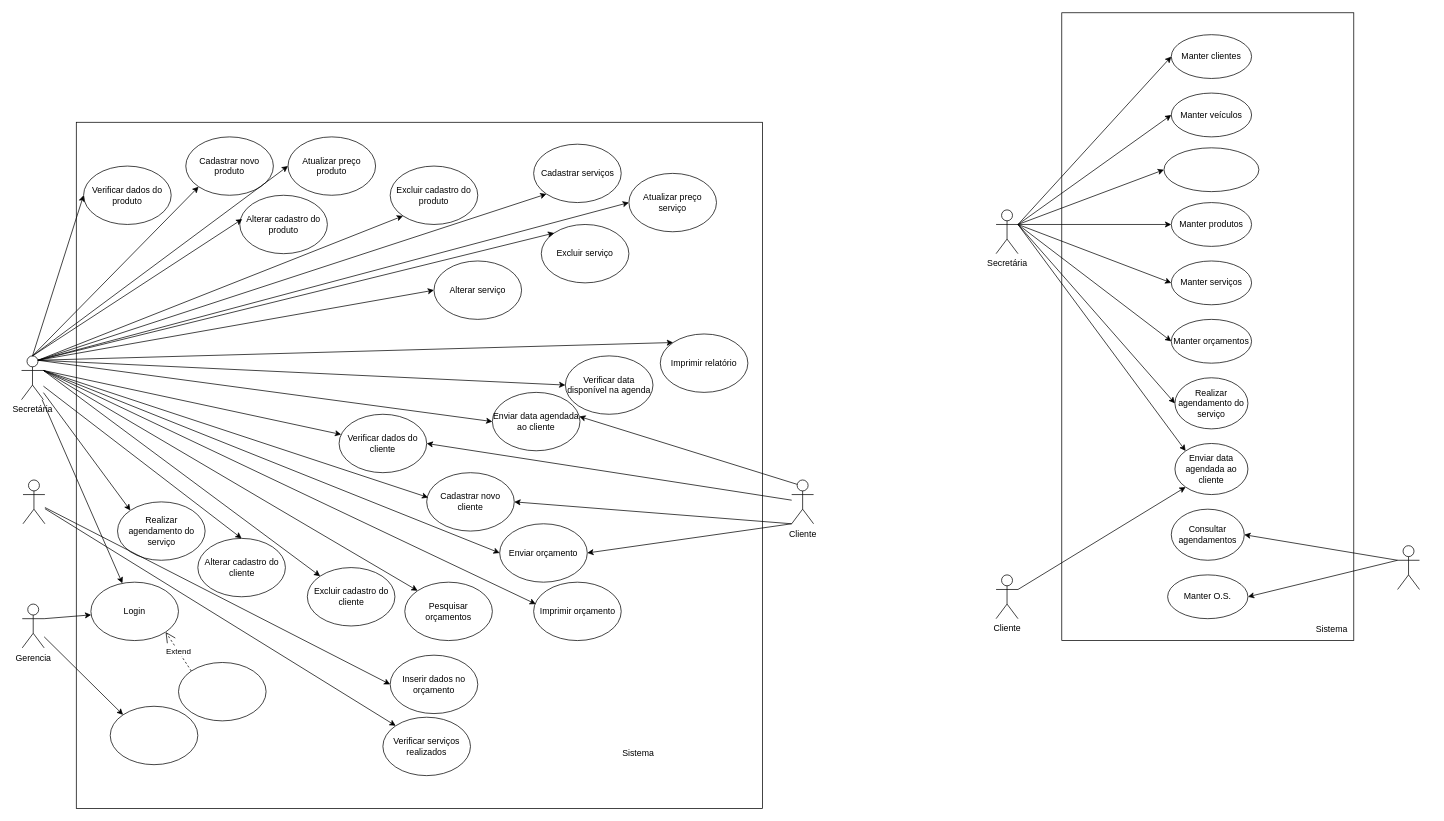
The diagram is 1444 pixels wide and 821 high, and some of its shapes have lost their labels. Each missing label, with the box of its shape:
Emitir relatório: (110, 706, 198, 765)
Funcionário: (1397, 545, 1419, 589)
Manter funcionários: (1163, 147, 1259, 192)
Senha: (178, 662, 266, 721)
supervisor: (22, 479, 45, 524)
